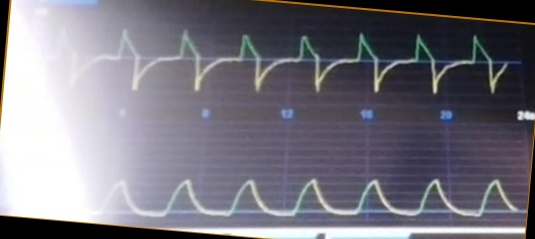Normal Flow: (42, 24, 509, 103)
Normal Volume: (82, 158, 520, 219)
